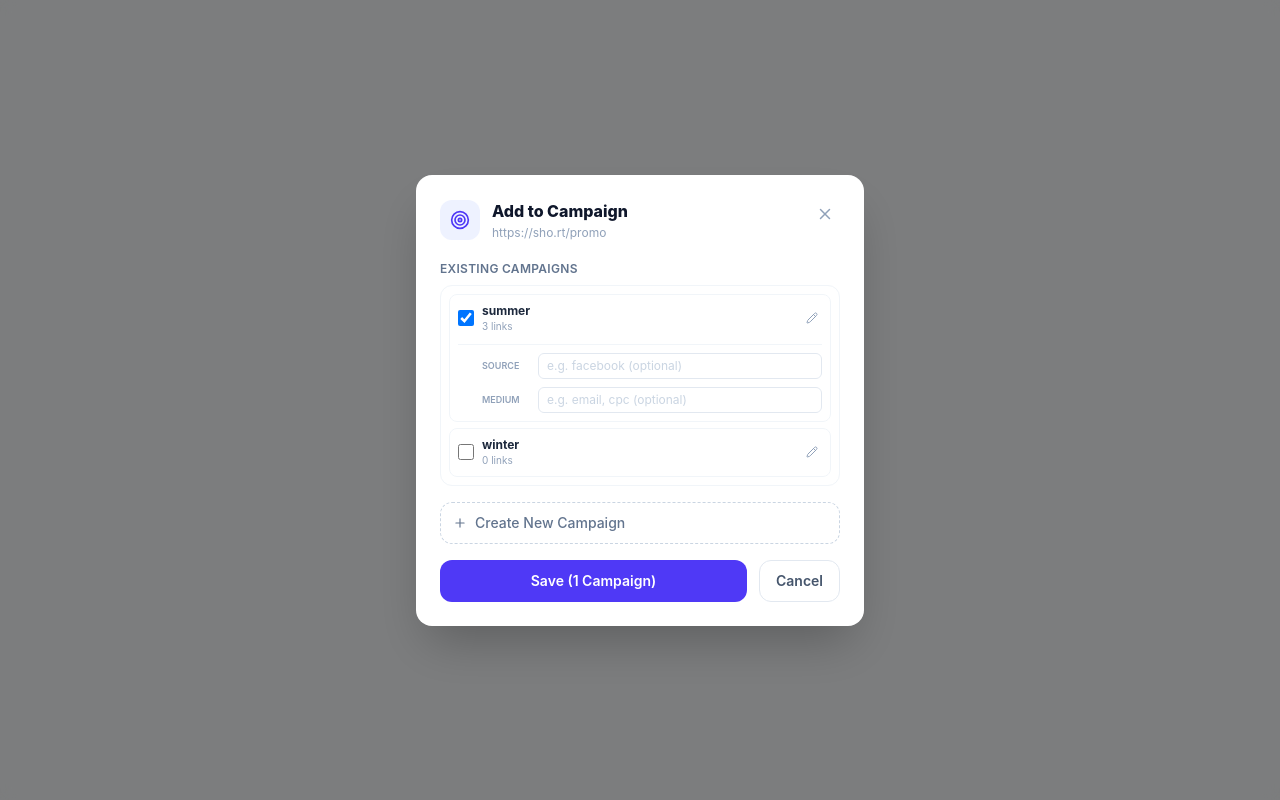
Test: AddToCampaignModal - saving assignments › shows a network error when the save throws
What coordinates should you click on to do the following:
click the button "Save (1 Campaign)"
I would click on:
 (594, 580)
Its box is left=440, top=560, right=747, bottom=602.
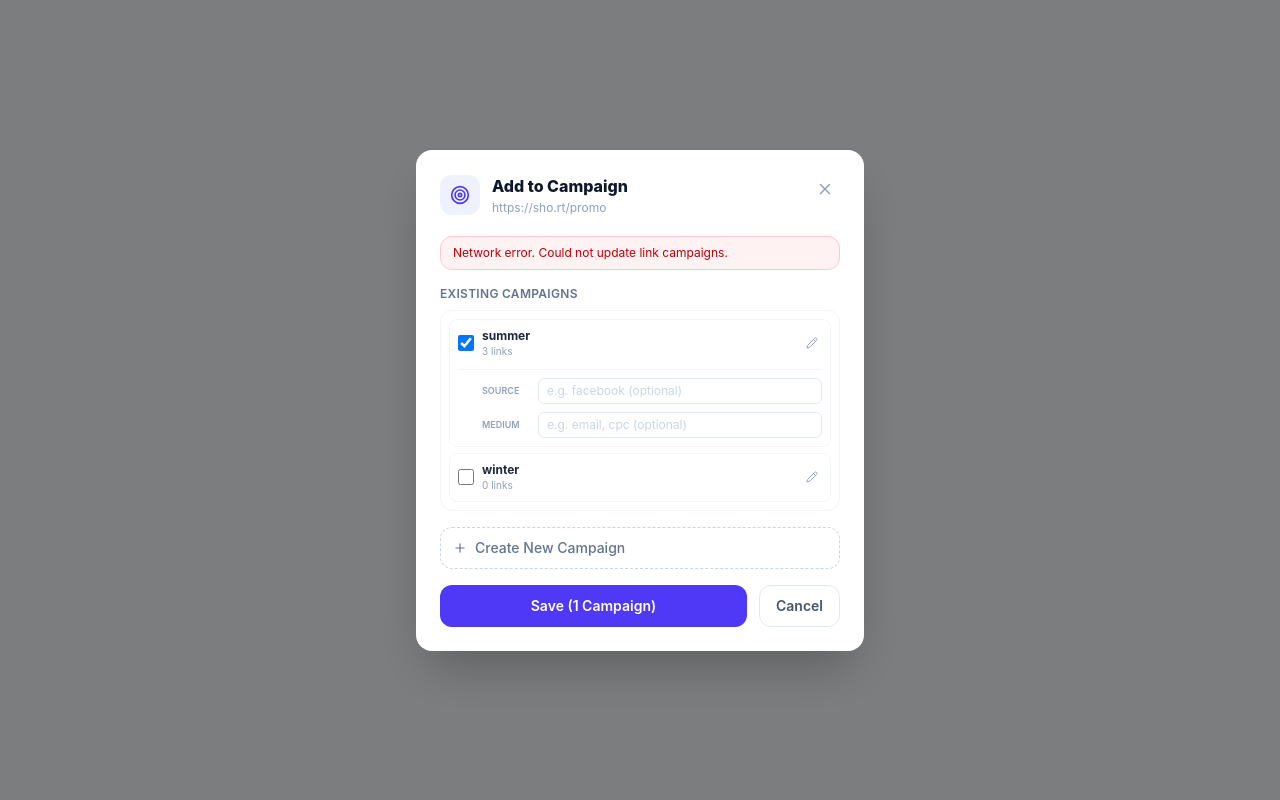
Check: the text "Network error. Could not update link campaigns." is shown, box left=440, top=236, right=840, bottom=270
